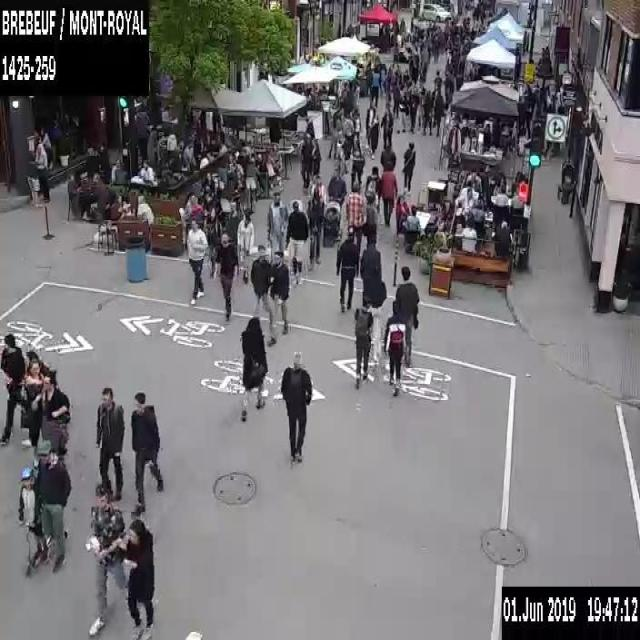cyclist: (18, 468, 46, 576)
pedestrian: (84, 501, 122, 639), (34, 438, 70, 566), (38, 371, 73, 491), (131, 392, 164, 518), (93, 385, 125, 501), (279, 352, 312, 460), (124, 519, 153, 639), (22, 346, 54, 454), (239, 316, 266, 419), (1, 334, 24, 453), (393, 263, 419, 367), (268, 250, 291, 345), (248, 244, 271, 339), (353, 296, 377, 387), (214, 232, 238, 322), (266, 192, 289, 284), (385, 301, 408, 392), (285, 196, 309, 281), (187, 217, 210, 305), (360, 238, 386, 313), (336, 224, 358, 311), (323, 162, 346, 243), (304, 187, 324, 269), (236, 207, 257, 281), (379, 162, 398, 228), (518, 87, 538, 137), (34, 140, 50, 200), (348, 138, 364, 194), (25, 151, 41, 206), (297, 131, 311, 188), (366, 101, 379, 154), (403, 139, 415, 192), (381, 104, 393, 154), (244, 155, 256, 204), (461, 216, 476, 255), (494, 220, 511, 254), (136, 193, 153, 224), (396, 194, 409, 233), (469, 198, 484, 230), (396, 84, 406, 132), (422, 89, 432, 134), (454, 187, 474, 208), (435, 90, 444, 136), (369, 66, 379, 106), (352, 106, 361, 148), (406, 204, 419, 232), (66, 171, 80, 197), (138, 158, 153, 182), (378, 23, 390, 52), (493, 183, 508, 206), (328, 115, 336, 157), (510, 188, 523, 213), (48, 118, 62, 139), (443, 70, 452, 102), (432, 68, 442, 96), (255, 152, 268, 172), (465, 169, 480, 186), (482, 122, 490, 148), (399, 15, 405, 36)
vehicle: (418, 1, 451, 22)
